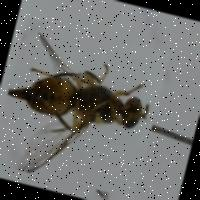Oriental-fruit-fly: (0, 18, 171, 199)
